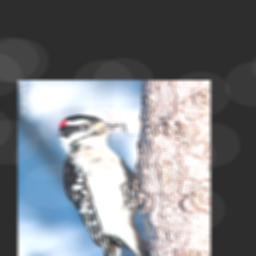Woodpecker: (58, 114, 149, 256)
